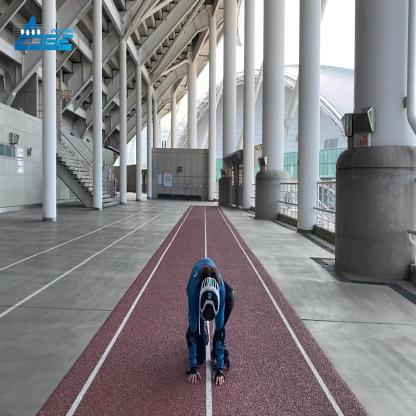Fall_Down: (186, 258, 235, 388)
